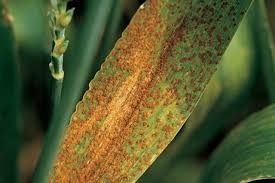Leaf Rust: (73, 19, 209, 157)
